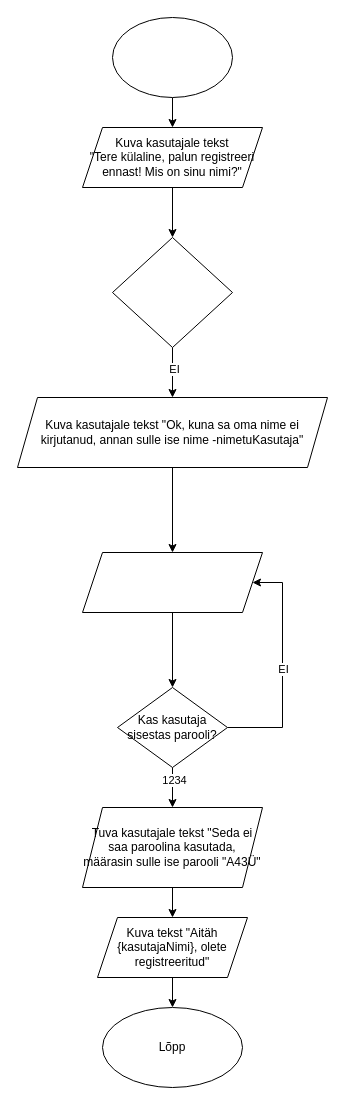
This 345x1105 diagram has some shape labels left out. The shapes that lost their labels are listed below. From the top down, each one's centre as x and y in pixels, then its label:
(172,57): algus
(172,292): Kas kasutaja on sisestanud enda nime?
(172,582): Kuva kasutajale tekst "Palun sisesta ka oma kasutaja jaoks parooli"
